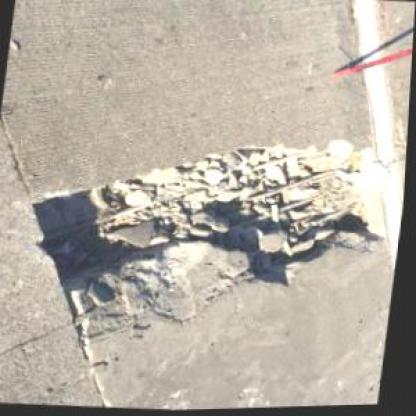pothole: (17, 122, 405, 323)
